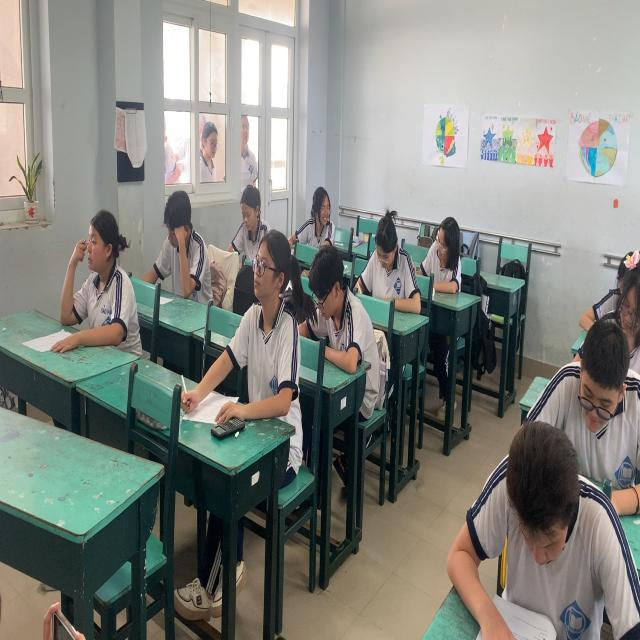cheating: (27, 177, 151, 399), (396, 188, 481, 338), (277, 155, 358, 294)
not_cheating: (412, 472, 619, 640), (214, 208, 324, 446), (519, 412, 640, 615), (288, 211, 388, 411), (124, 168, 215, 350), (563, 320, 640, 496), (343, 198, 430, 350), (198, 167, 284, 310), (599, 258, 640, 438)
